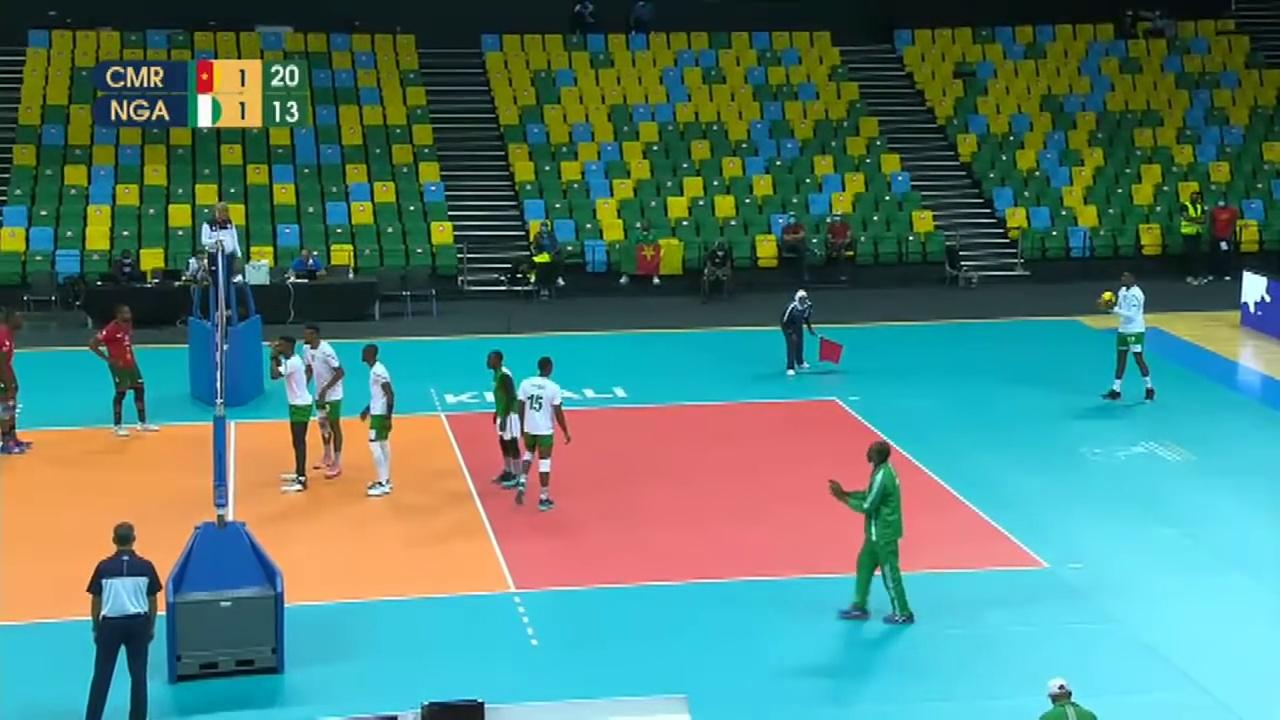player: (264, 333, 319, 492), (299, 319, 353, 473), (515, 356, 569, 510), (90, 303, 150, 432), (474, 346, 526, 488), (1102, 271, 1156, 400), (356, 344, 401, 493), (0, 306, 41, 461)
refree: (81, 522, 163, 720), (196, 199, 250, 323), (783, 287, 821, 375)
